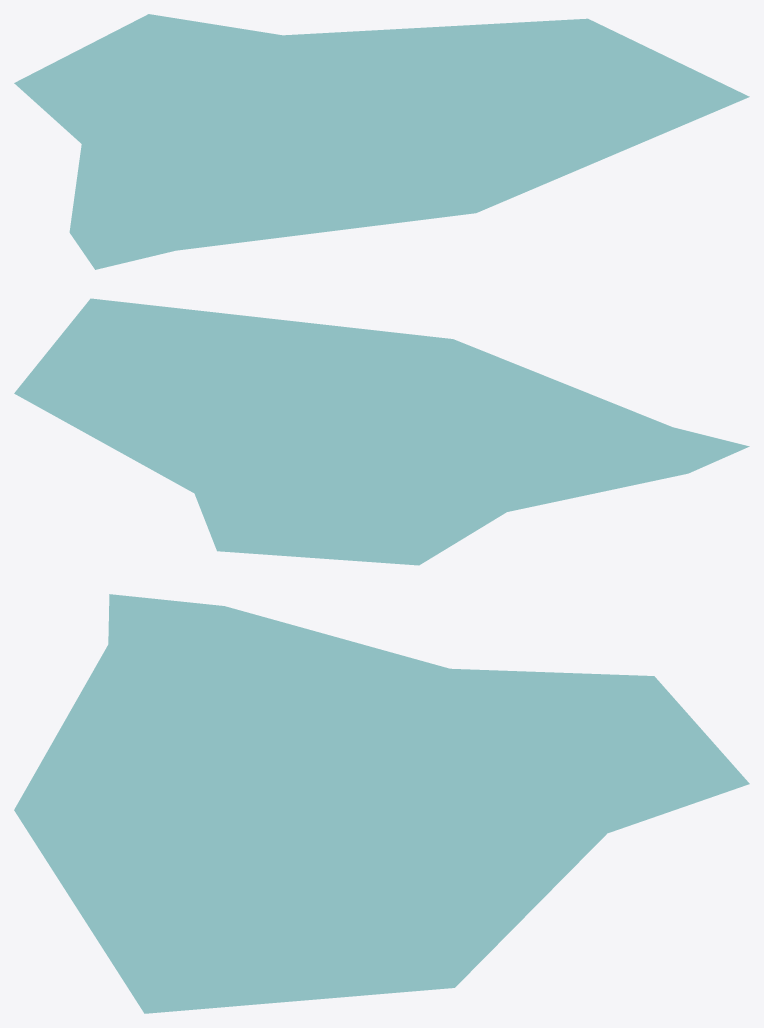
The model's file is BgMD_water02_01 1.fbx.
The picture shows the model from 3 angles, top to bottom: view 1: azimuth 30°, elevation 25°; view 2: azimuth 150°, elevation 25°; view 3: azimuth 270°, elevation 25°; orthographic projection. The views are drawn at different scales.
Parts seen in each view (by area): view 1: BgMD_water02_01; view 2: BgMD_water02_01; view 3: BgMD_water02_01.
Part boxes in pixels (x1,y1,x2,y2): BgMD_water02_01: (14,14,749,269); BgMD_water02_01: (14,298,749,565); BgMD_water02_01: (14,594,749,1013).
Bounding box in the file's own units: 4684 × 0.00391 × 3471.
